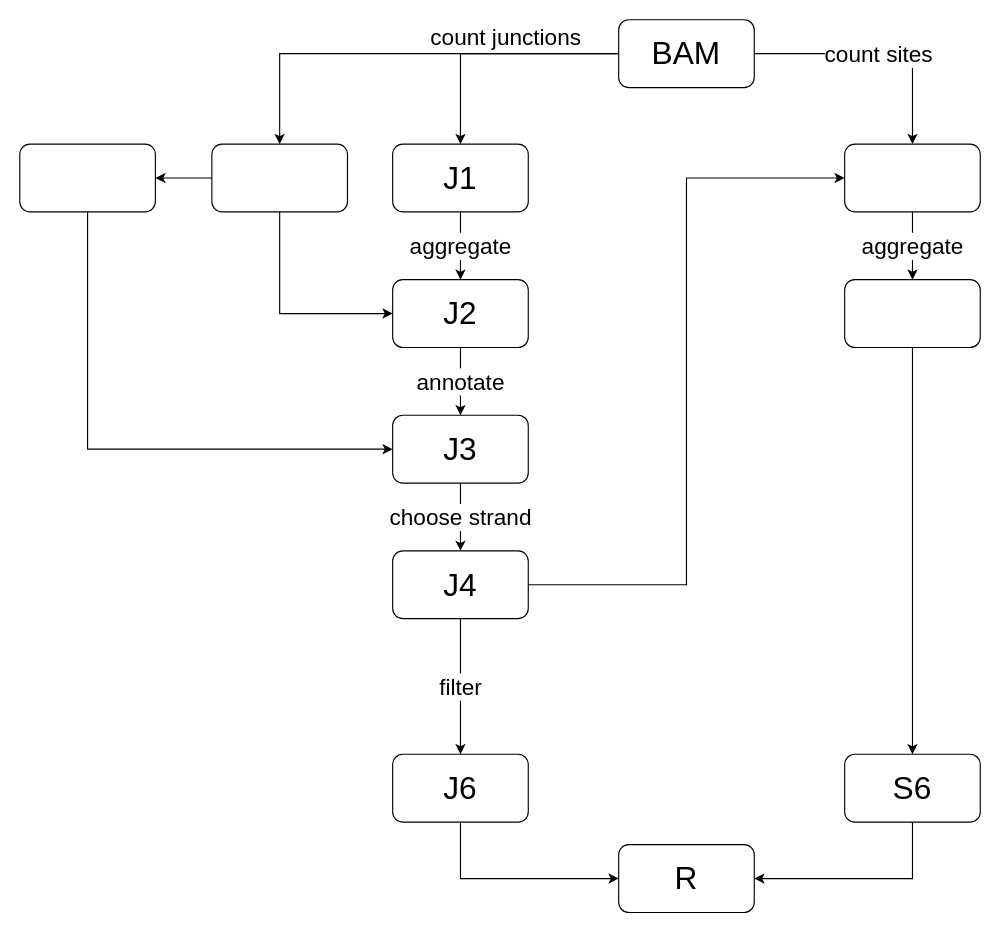
Some shapes in this 1000 by 932 pixel diagram are drawn without their labels. Each missing label, with the centre of its shape:
"Genome" belongs at (87,177).
"S1" belongs at (912,177).
"S2" belongs at (912,313).
"Stats" belongs at (279,177).
